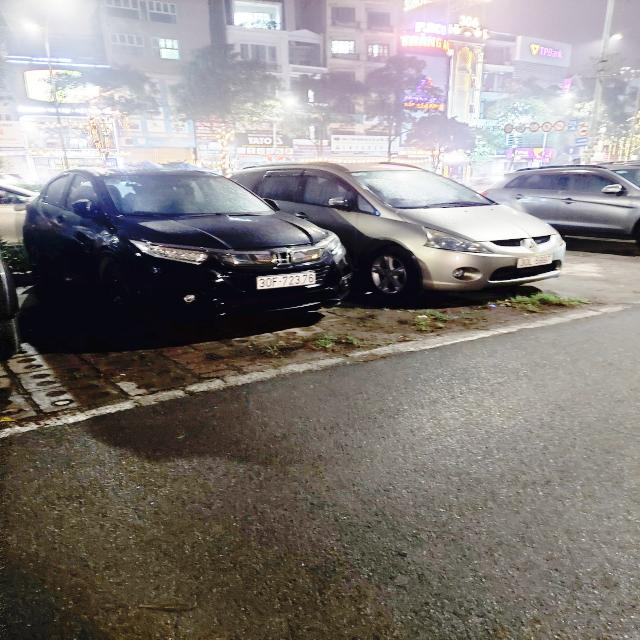license_plate: (257, 272, 317, 290), (517, 254, 555, 270)
